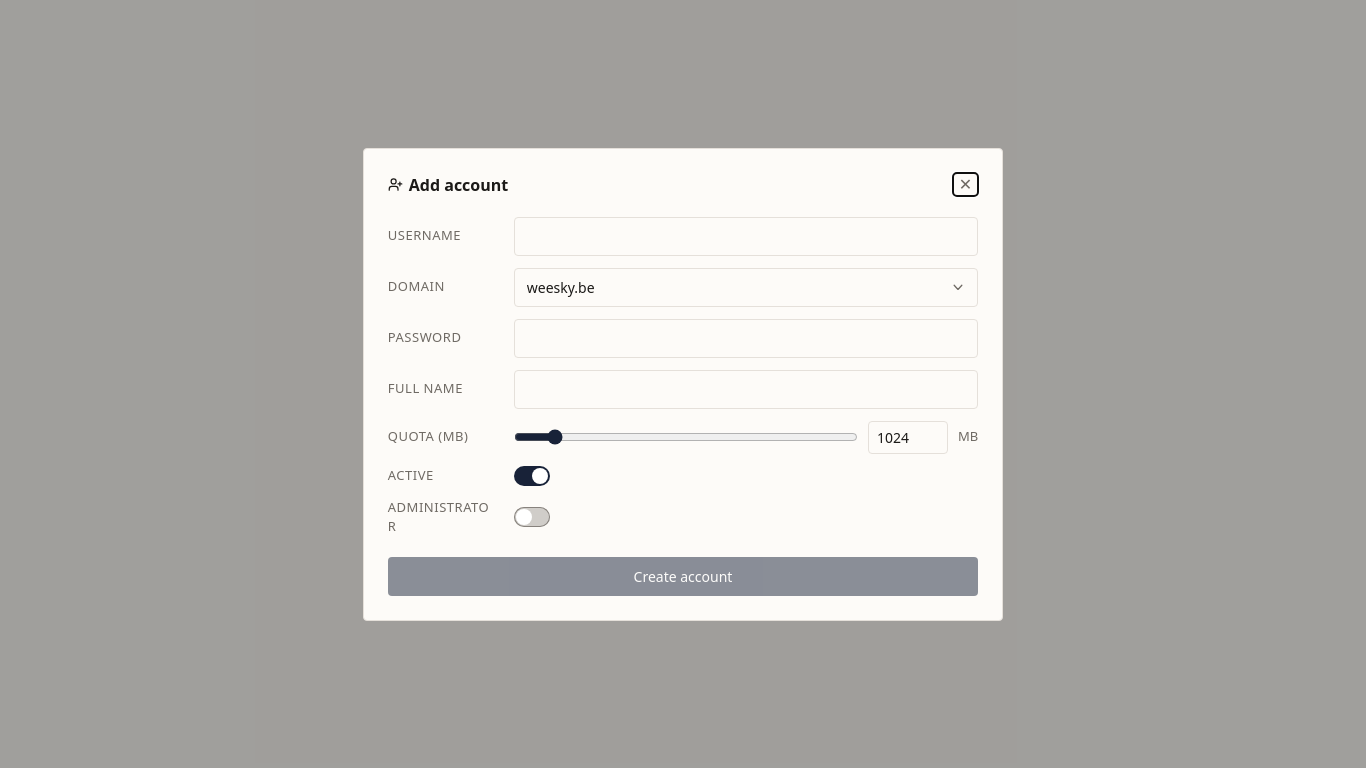
Test: AddEditUserModal — accessible field names › the error banner announces the local fallback as an alert
Type "alice" into the field labelled "Username".
click(746, 236); type("alice")  # box [514, 216, 978, 256]
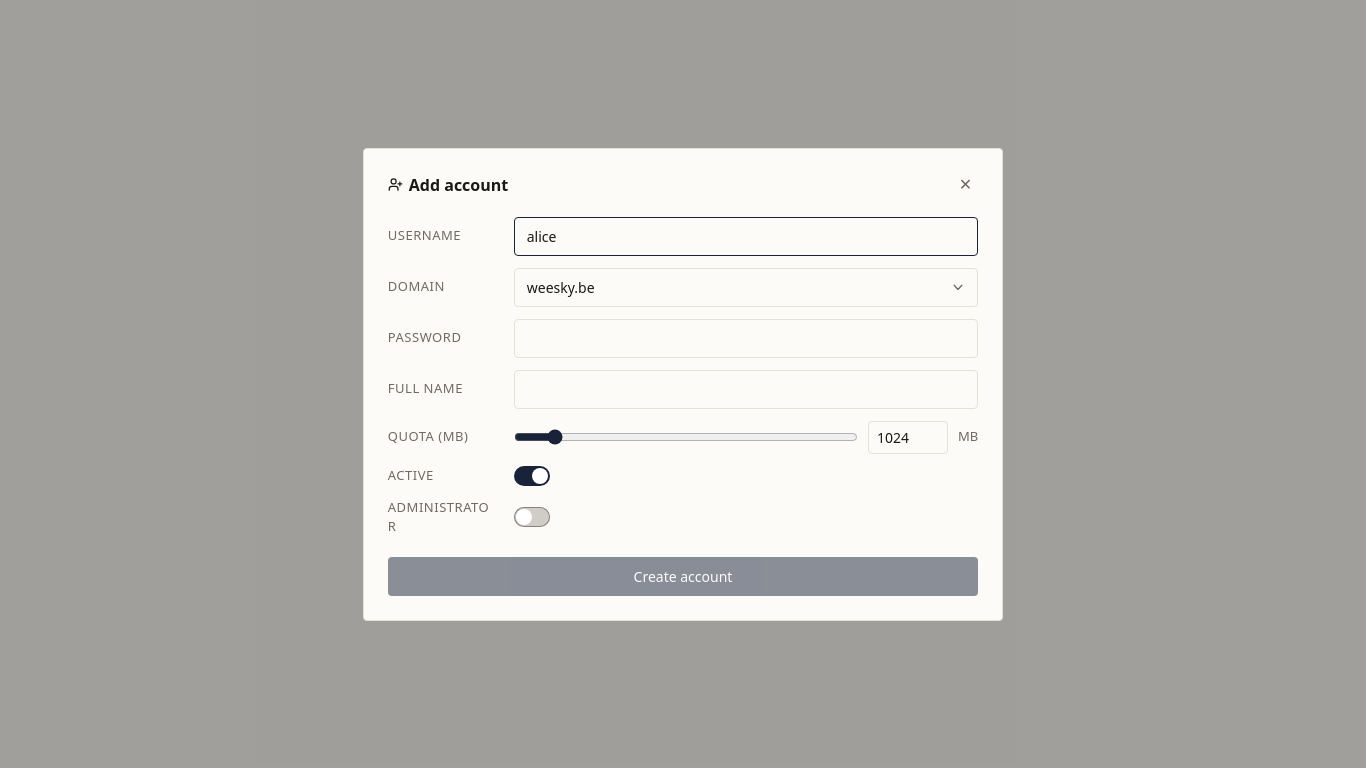
Type "pw" into the password field labelled "Password".
click(746, 338); type("pw")  # box [514, 318, 978, 358]
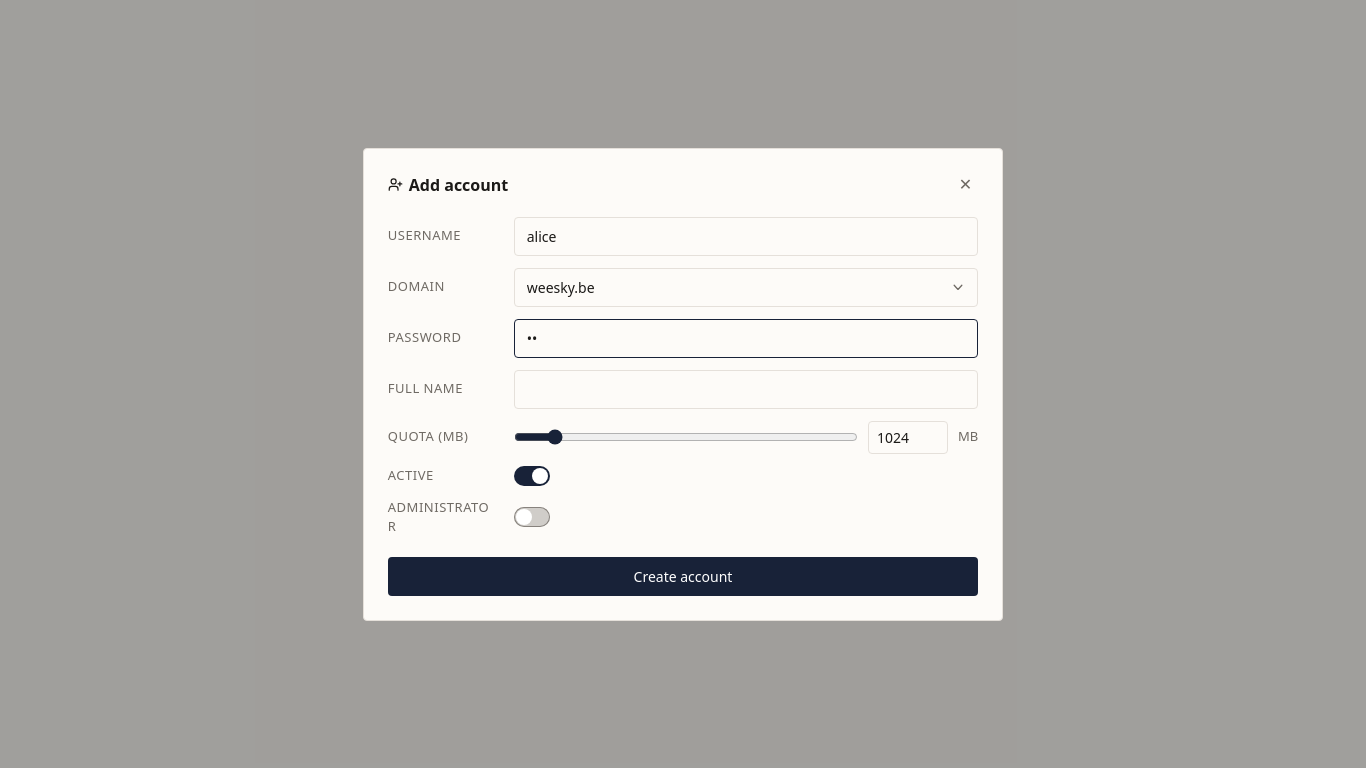
Click the button "Create account".
click(683, 576)  # box [388, 556, 978, 596]
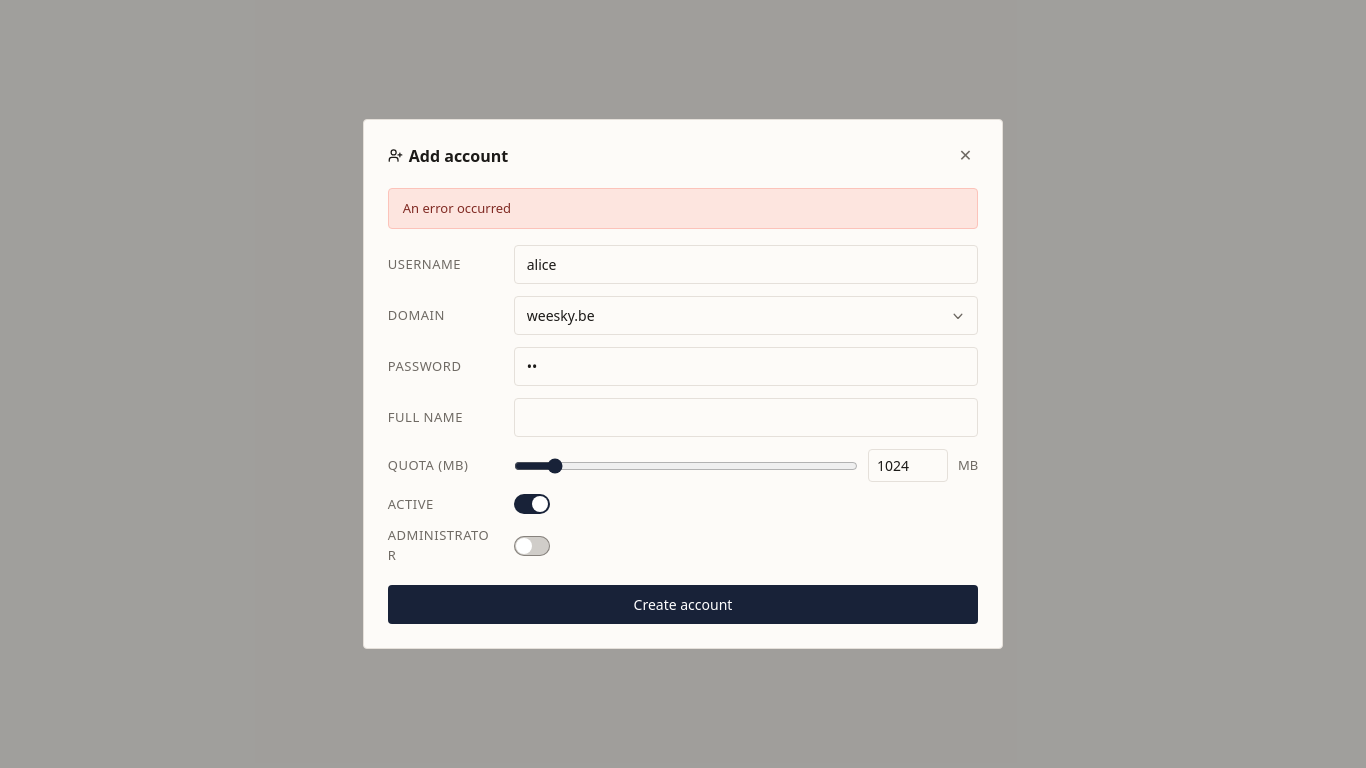
Result: the message reads "An error occurred" at [403, 199, 511, 217]
